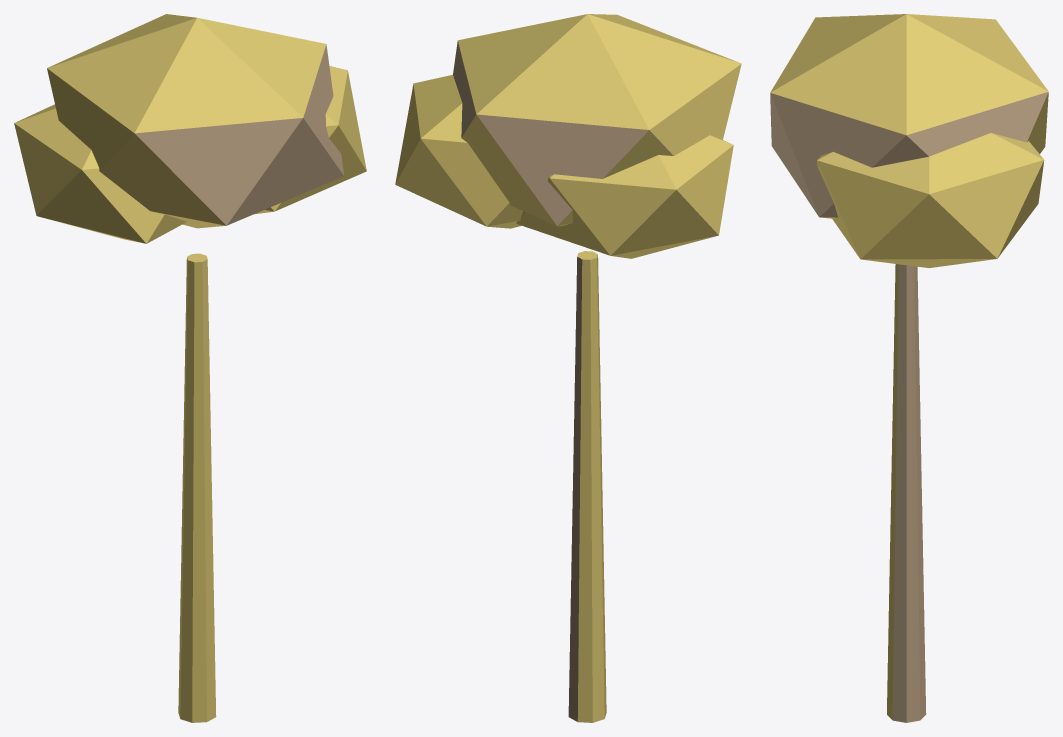
The model's file is TREE-birch-06.glb.
The picture shows the model from 3 angles, left to right: view 1: azimuth 30°, elevation 25°; view 2: azimuth 150°, elevation 25°; view 3: azimuth 270°, elevation 25°; orthographic projection.
Parts seen in each view (by area): view 1: TREE-birch-06; view 2: TREE-birch-06; view 3: TREE-birch-06.
Part boxes in pixels (<box>): TREE-birch-06: <box>14,14,366,722</box>; TREE-birch-06: <box>395,14,741,722</box>; TREE-birch-06: <box>770,14,1048,722</box>.
Bounding box in the file's own units: 2.36 × 5.11 × 1.84.
